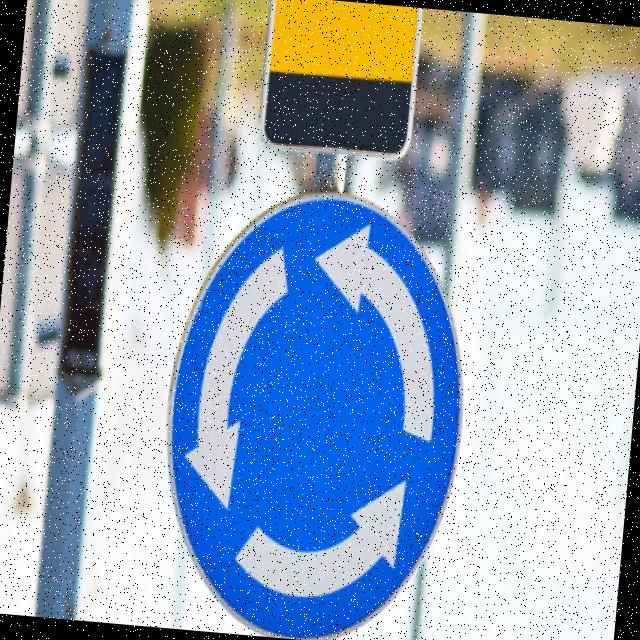round_about: (144, 173, 487, 640)
